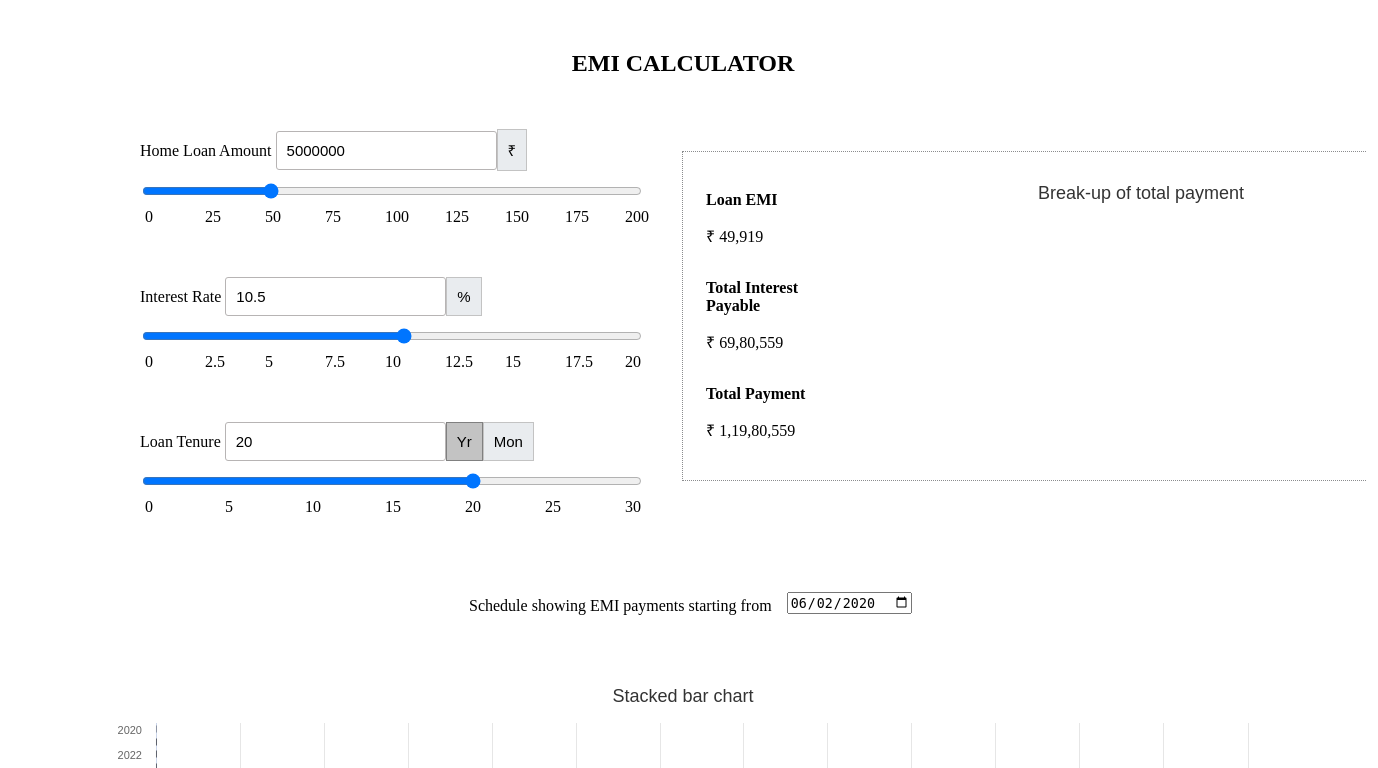
Test: App › should calculate loan emi on loan amount change
The width and height of the screenshot is (1378, 768).
Replace the text in the field with id "loanAmount" with "100000" at (386, 150), box [276,131,496,170]
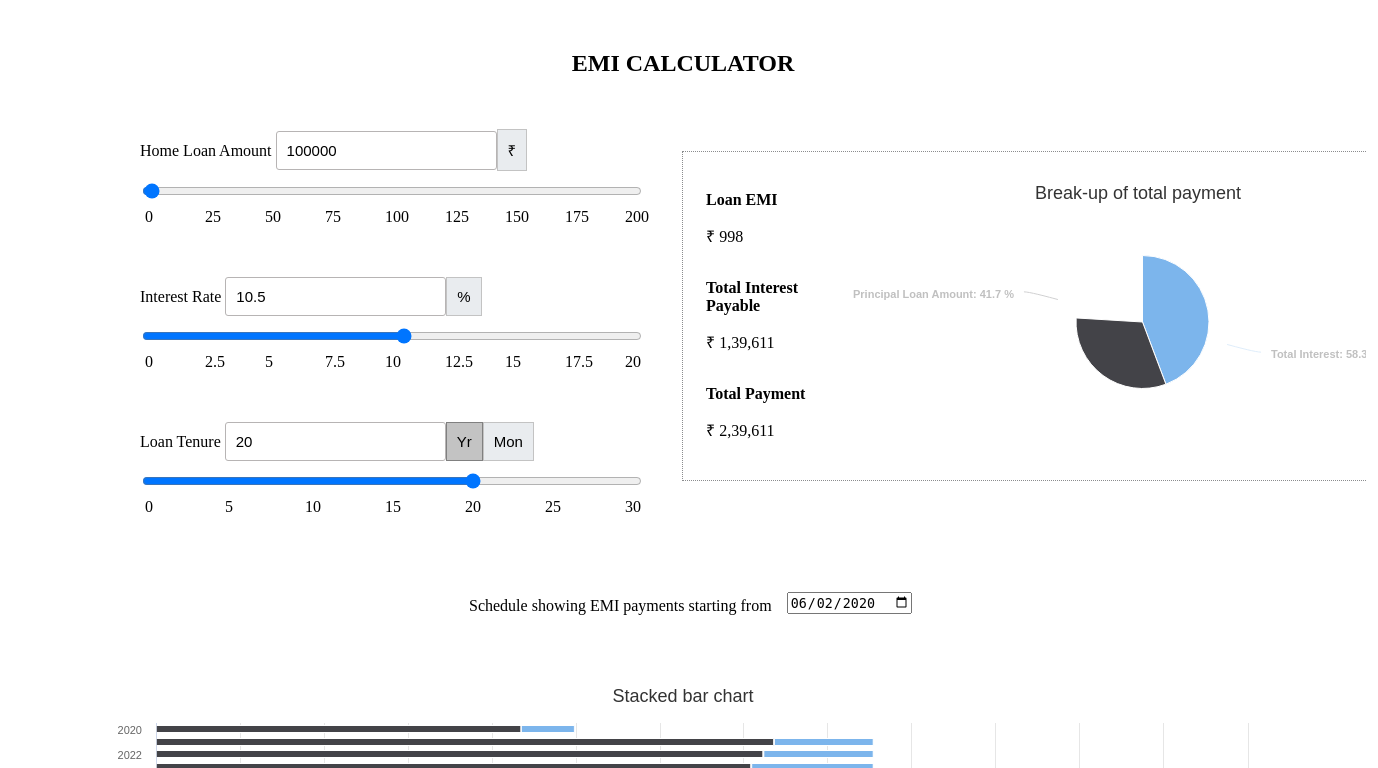
Result: the text "₹ 998" is shown at [706,228,743,245]
